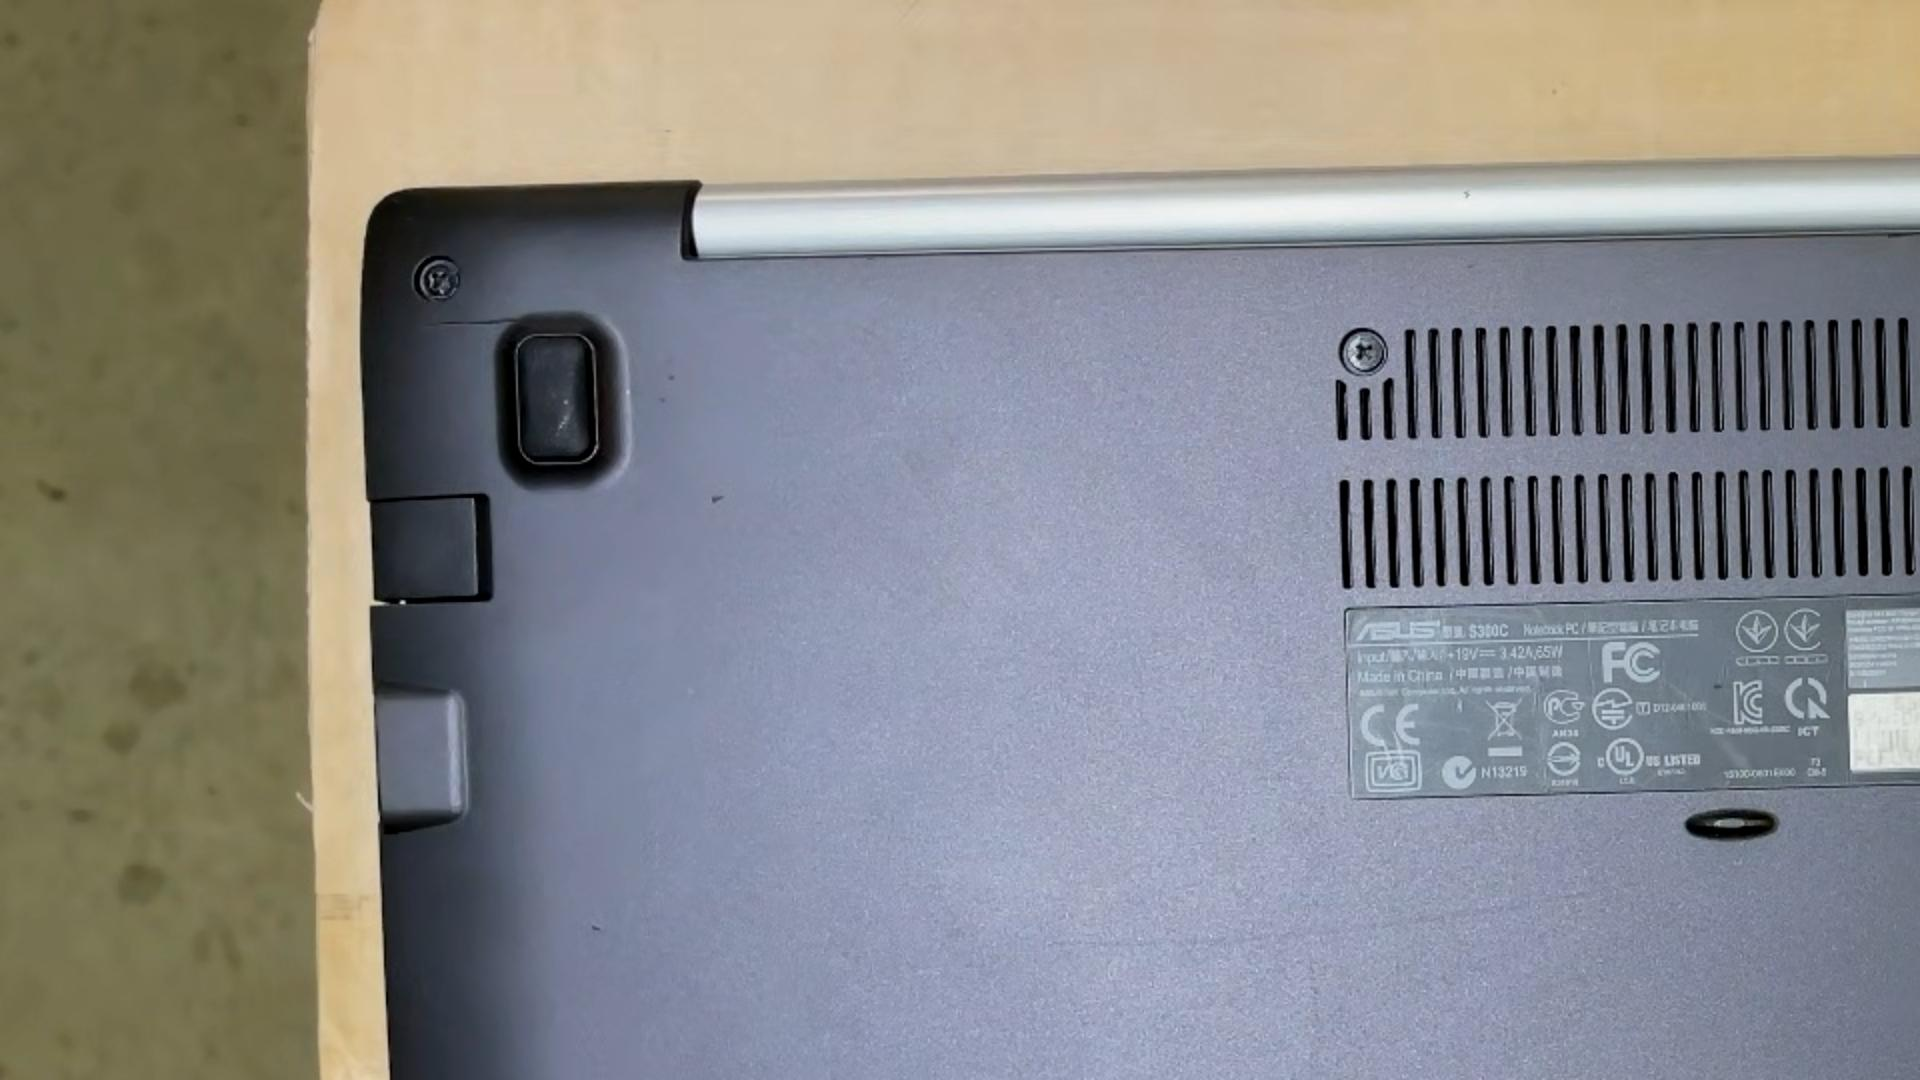chip: (707, 495, 727, 506), (666, 373, 676, 382), (562, 397, 571, 406), (658, 396, 666, 404)
scratches: (1047, 876, 1651, 949), (422, 318, 521, 330), (555, 411, 572, 434), (1462, 190, 1470, 199), (591, 924, 601, 931)
